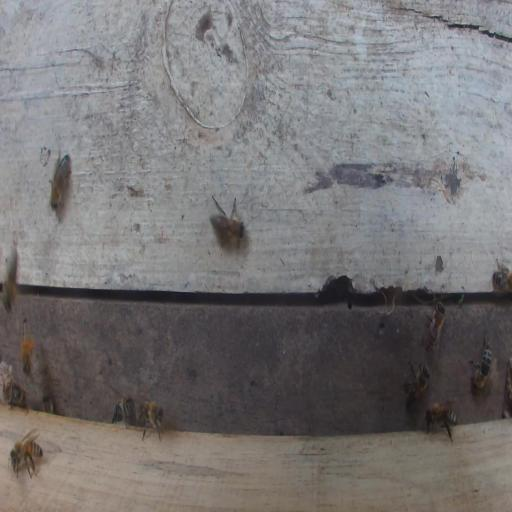nonpollenbee: (207, 193, 245, 249), (7, 427, 44, 479), (400, 356, 432, 409), (421, 399, 460, 442), (49, 140, 72, 209), (135, 392, 166, 443), (420, 300, 446, 360), (467, 331, 492, 392), (108, 383, 137, 429), (2, 245, 19, 315), (491, 254, 511, 297), (8, 381, 30, 414)
pollenbee: (20, 317, 35, 376)
